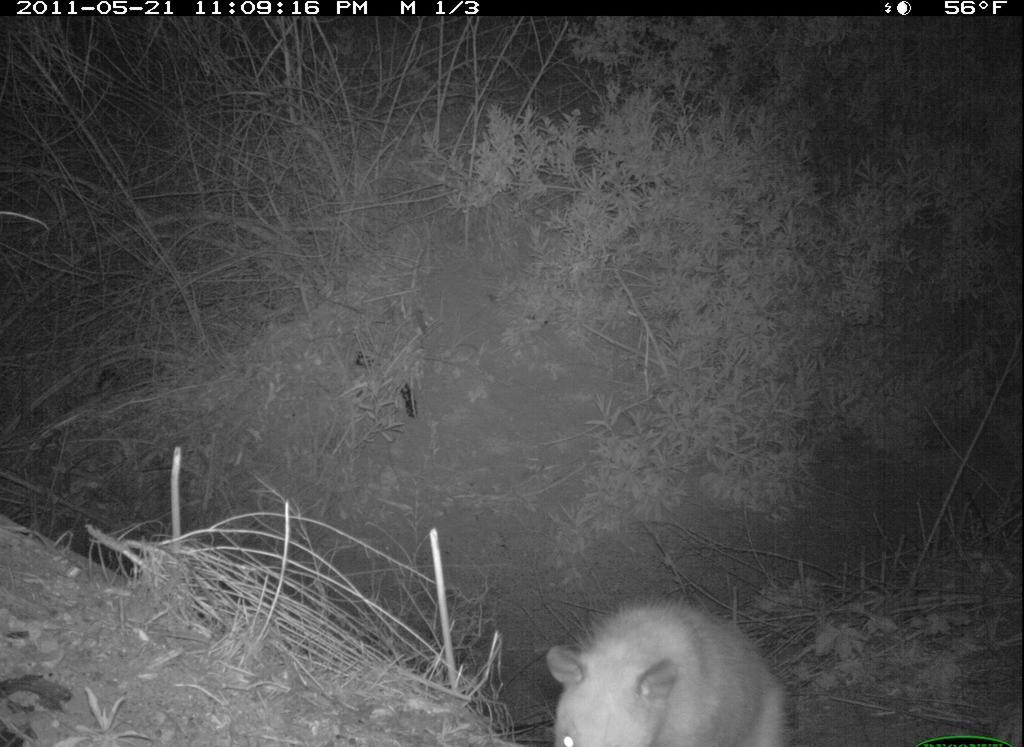opossum: (542, 598, 801, 747)
